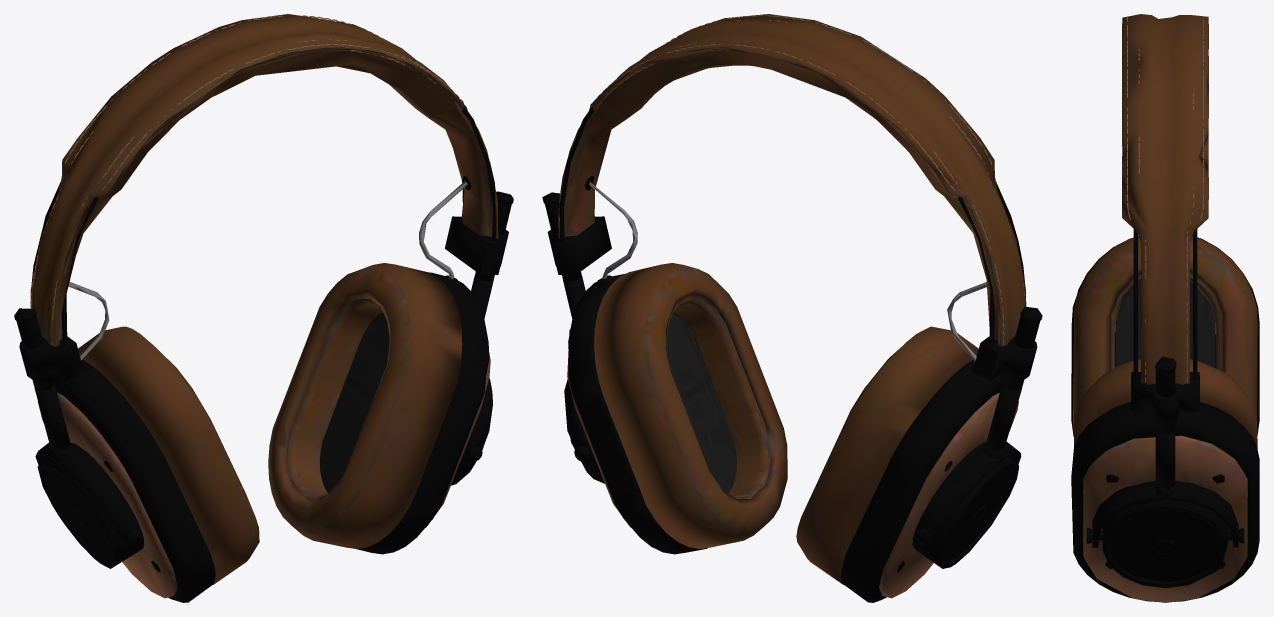
File: headphones_retro.glb
3 renders of one model, left to right at view 1: azimuth 30°, elevation 25°; view 2: azimuth 150°, elevation 25°; view 3: azimuth 270°, elevation 25°, orthographic. The views are drawn at different scales.
Visible parts, largest first — view 1: Cylinder.002, Cylinder.011, Cylinder, Cylinder.001, Cylinder.020, Cylinder.010, Cylinder.005, Cylinder.003, Cylinder.004, Cylinder.006, Cylinder.017, Cylinder.008 (+2 smaller); view 2: Cylinder.002, Cylinder.011, Cylinder, Cylinder.020, Cylinder.001, Cylinder.010, Cylinder.005, Cylinder.003, Cylinder.004, Cylinder.006, Cylinder.017, Cylinder.008 (+2 smaller); view 3: Cylinder.011, Cylinder.002, Cylinder.001, Cylinder, Cylinder.004, Cylinder.005, Cylinder.020, Cylinder.003, Cylinder.010, Cylinder.017, Cylinder.006, Cylinder.008 (+4 smaller).
Boxes of the visible parts, x1,y1,x2,y2 form: Cylinder.002: (78,263,462,584); Cylinder.011: (30,14,498,346); Cylinder: (52,272,489,602); Cylinder.001: (38,352,490,598); Cylinder.020: (320,312,389,492); Cylinder.010: (19,216,508,380); Cylinder.005: (35,378,492,547); Cylinder.003: (37,443,482,568); Cylinder.004: (44,467,112,562); Cylinder.006: (35,277,493,450); Cylinder.017: (31,107,496,346); Cylinder.008: (16,202,511,390); Cylinder.002: (594,263,978,584); Cylinder.011: (558,14,1026,346); Cylinder: (568,273,1004,602); Cylinder.020: (667,313,736,492); Cylinder.001: (567,329,1018,598); Cylinder.010: (547,216,1037,380); Cylinder.005: (564,379,1021,546); Cylinder.003: (570,438,1018,568); Cylinder.004: (944,467,1012,562); Cylinder.006: (563,276,1021,450); Cylinder.017: (559,107,1025,346); Cylinder.008: (545,202,1040,390); Cylinder.011: (1122,14,1208,384); Cylinder.002: (1073,236,1257,478); Cylinder.001: (1083,322,1247,602); Cylinder: (1071,236,1259,601); Cylinder.004: (1109,510,1220,581); Cylinder.005: (1092,481,1238,547); Cylinder.020: (1115,281,1215,446); Cylinder.003: (1102,333,1228,588); Cylinder.010: (1131,372,1199,424); Cylinder.017: (1133,228,1197,379); Cylinder.006: (1155,429,1175,489); Cylinder.008: (1155,369,1175,434).
Size of the model in its own units: 0.221 by 0.2283 by 0.0751.
Materials: 26 (8 with a texture image).
